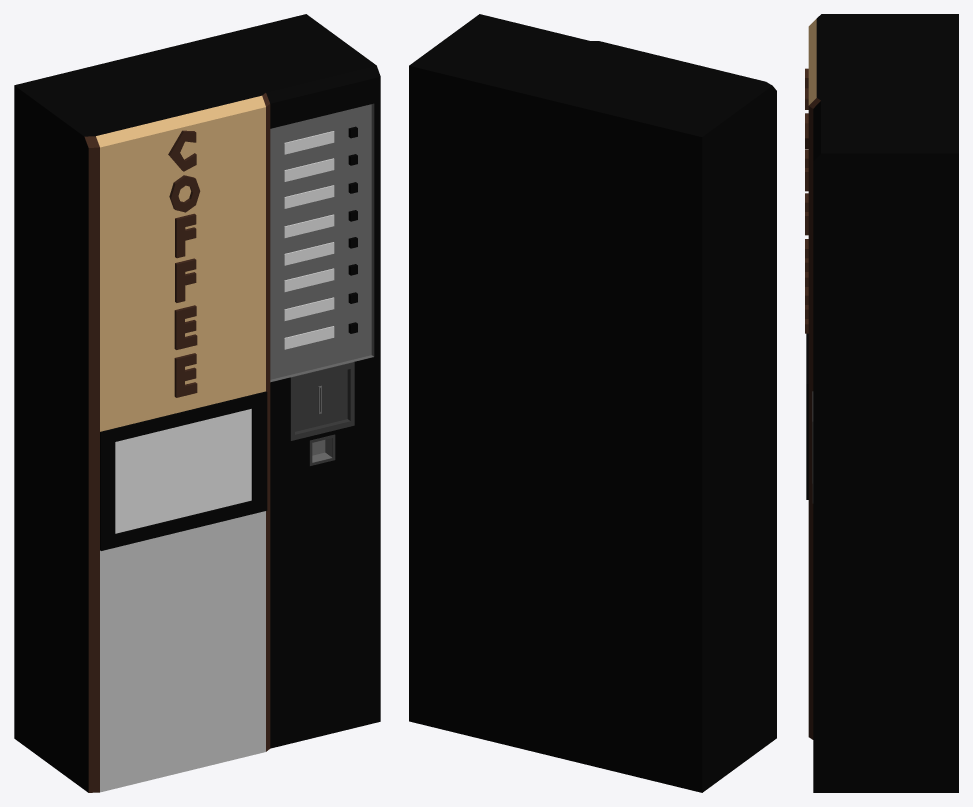
The model's file is P_Coffee_Vending_Machine.fbx.
3 views of the same model, side by side, from view 1: azimuth 30°, elevation 25°; view 2: azimuth 150°, elevation 25°; view 3: azimuth 270°, elevation 25° (orthographic). The views are drawn at different scales.
Parts seen in each view (by area): view 1: P_Coffee_Vending_Machine; view 2: P_Coffee_Vending_Machine; view 3: P_Coffee_Vending_Machine.
Boxes of the visible parts, bbox=[...] form: P_Coffee_Vending_Machine: bbox=[14, 14, 380, 792]; P_Coffee_Vending_Machine: bbox=[409, 14, 776, 792]; P_Coffee_Vending_Machine: bbox=[805, 14, 958, 792].
Size of the model in its own units: 601 by 280 by 1285.
